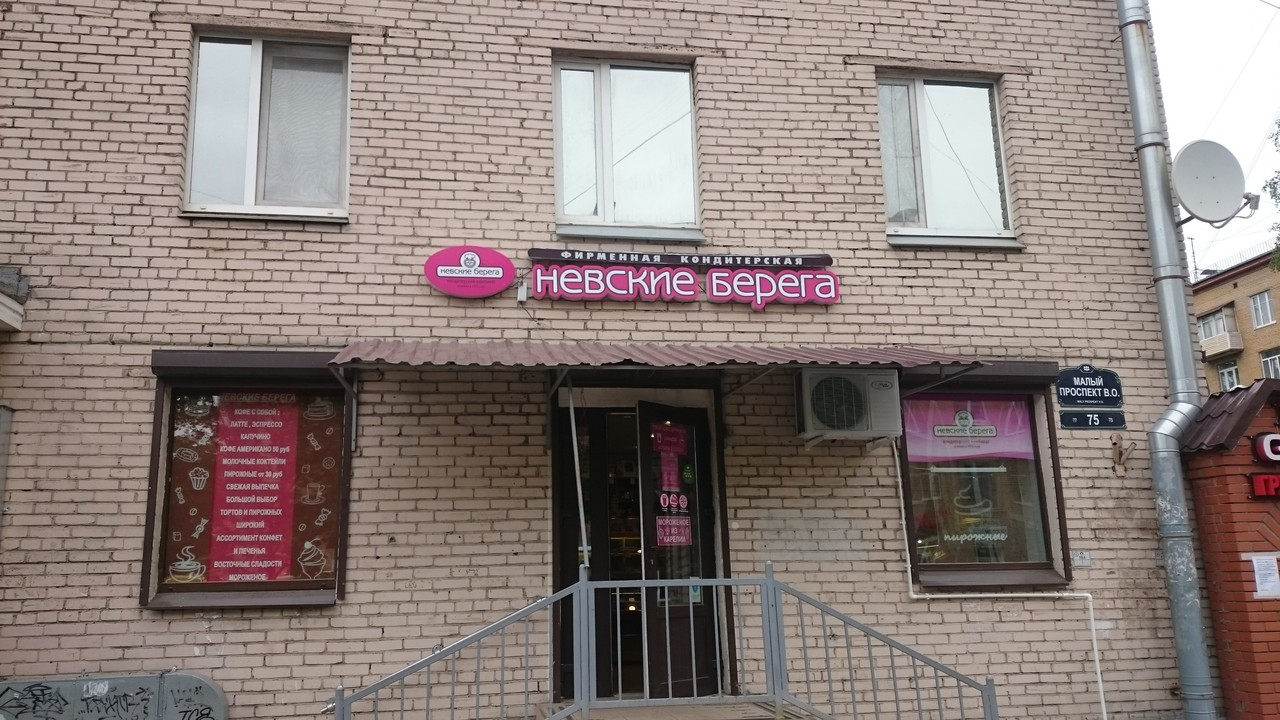door: (552, 404, 719, 699)
signboard: (425, 239, 839, 312)
win_ad: (168, 387, 334, 584), (903, 399, 1034, 479)
window: (153, 379, 344, 595), (901, 383, 1057, 592), (189, 27, 350, 222), (553, 48, 698, 233), (876, 61, 1012, 238)
